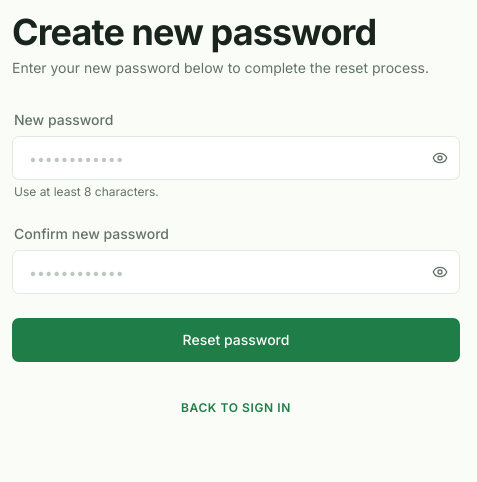
Test case: ResetPasswordPage › validates both password fields
Click the button with test id "reset-password-submit-button" at (236, 340), box [12,318,460,362]
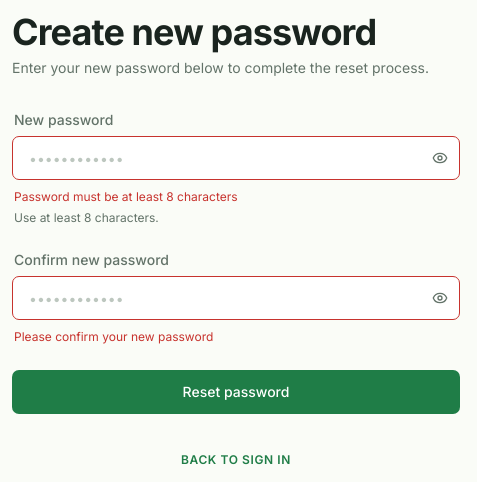
Expected: the text "Password must be at least 8 characters" is shown, [14,189,238,204]
Expected: the text "Please confirm your new password" is shown, [14,329,213,344]
